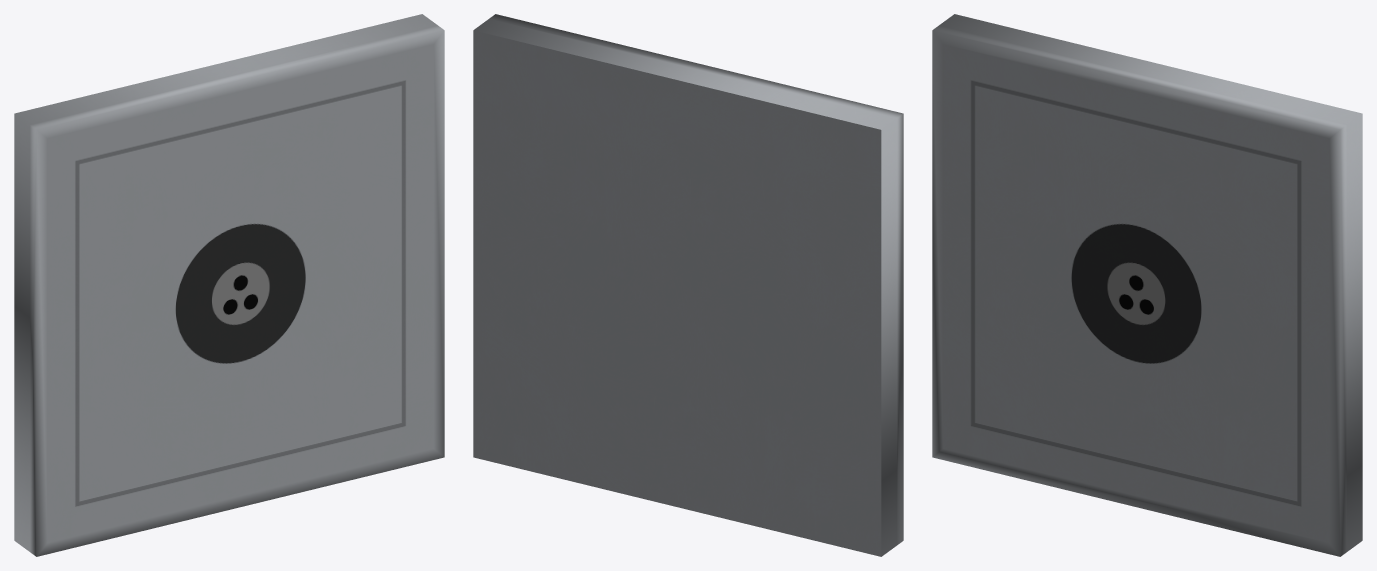
File: WallSocket.obj
The picture shows the model from 3 angles, left to right: view 1: azimuth 30°, elevation 25°; view 2: azimuth 150°, elevation 25°; view 3: azimuth 330°, elevation 25°; orthographic projection.
Visible parts, largest first — view 1: WallSocket; view 2: WallSocket; view 3: WallSocket.
Part boxes in pixels (box(x1,y1,x2,y2)): WallSocket: box(14, 14, 444, 556); WallSocket: box(473, 14, 903, 556); WallSocket: box(932, 14, 1362, 556).
Size of the model in its own units: 0.5283 by 0.5283 by 0.05.
